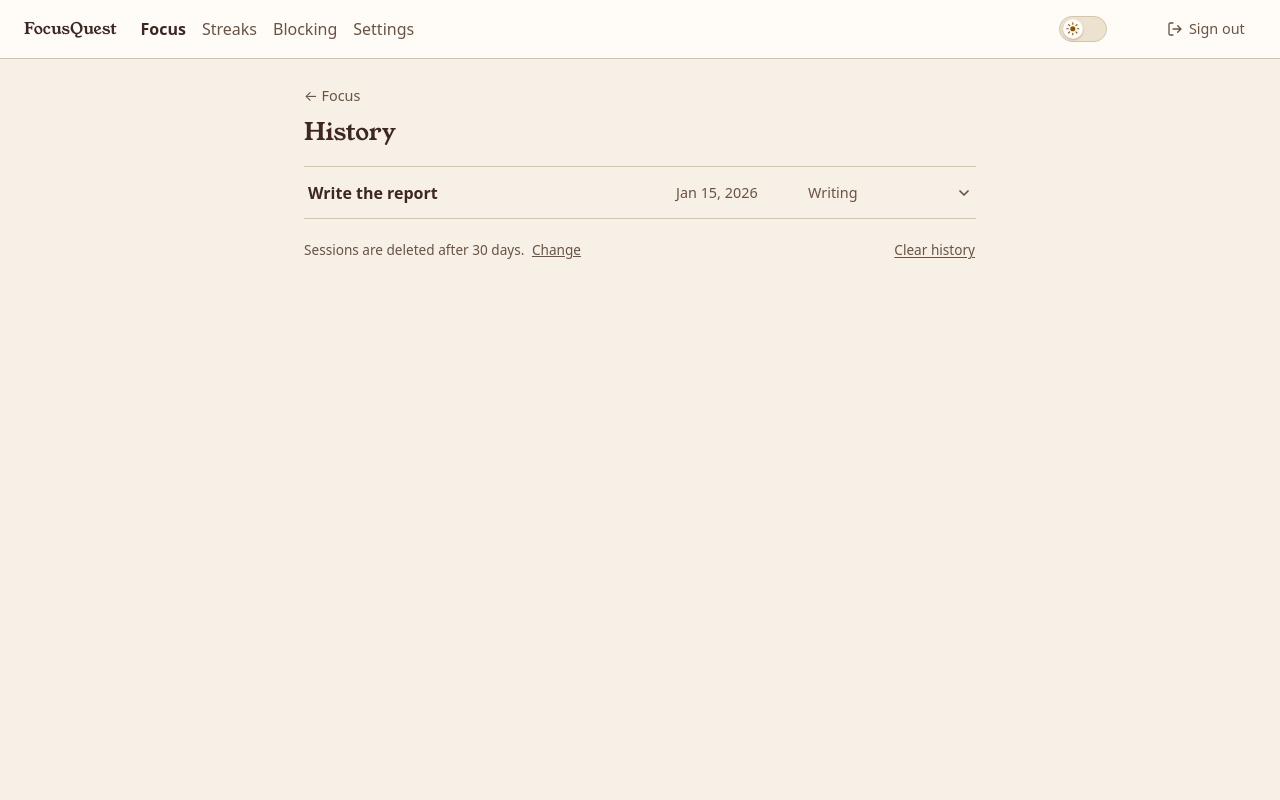
Test: HistoryView › clearing and retention › clears the history only after the user confirms
Click the button "Clear history" at point(935, 251), box [893,239,976,262]
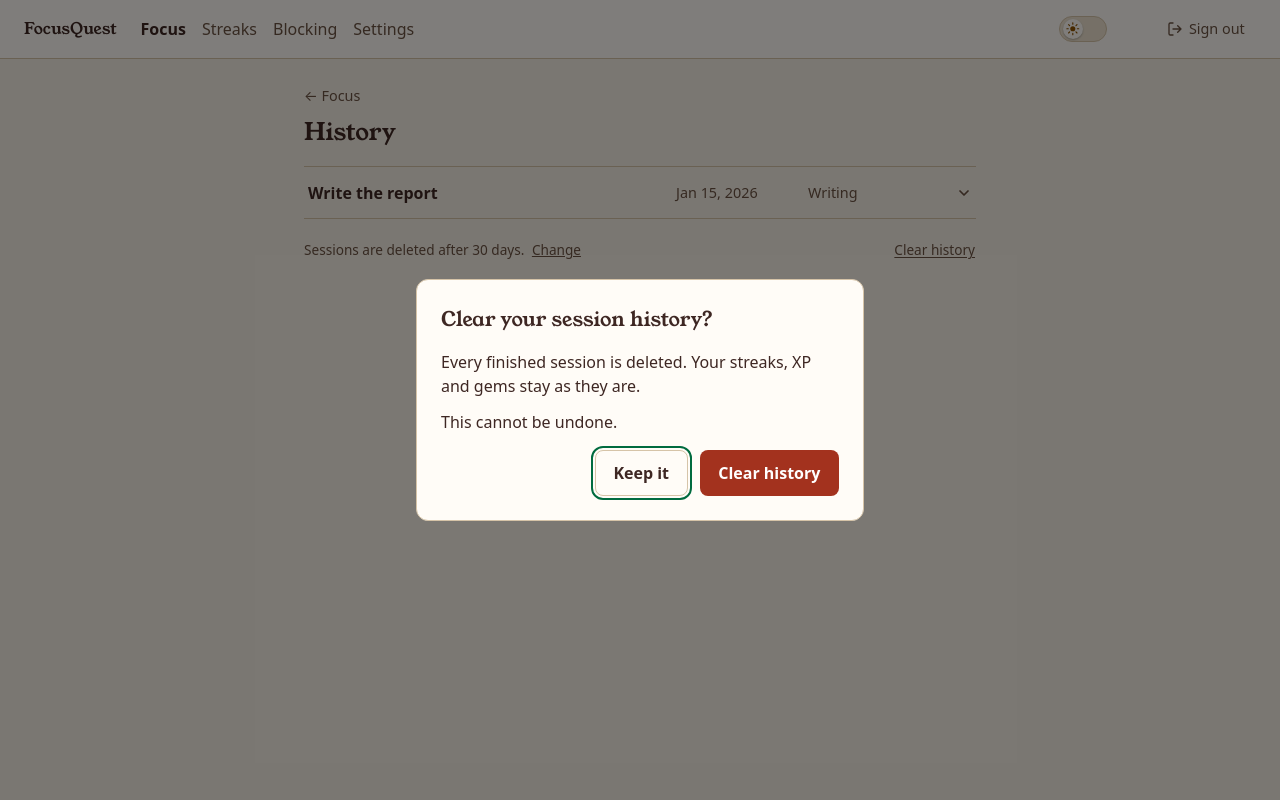
Check: the text "Your streaks, XP and gems stay as they are." is shown, box [441,351,811,397]
Click the button "Clear history" at point(769, 473), box [700,450,839,496]
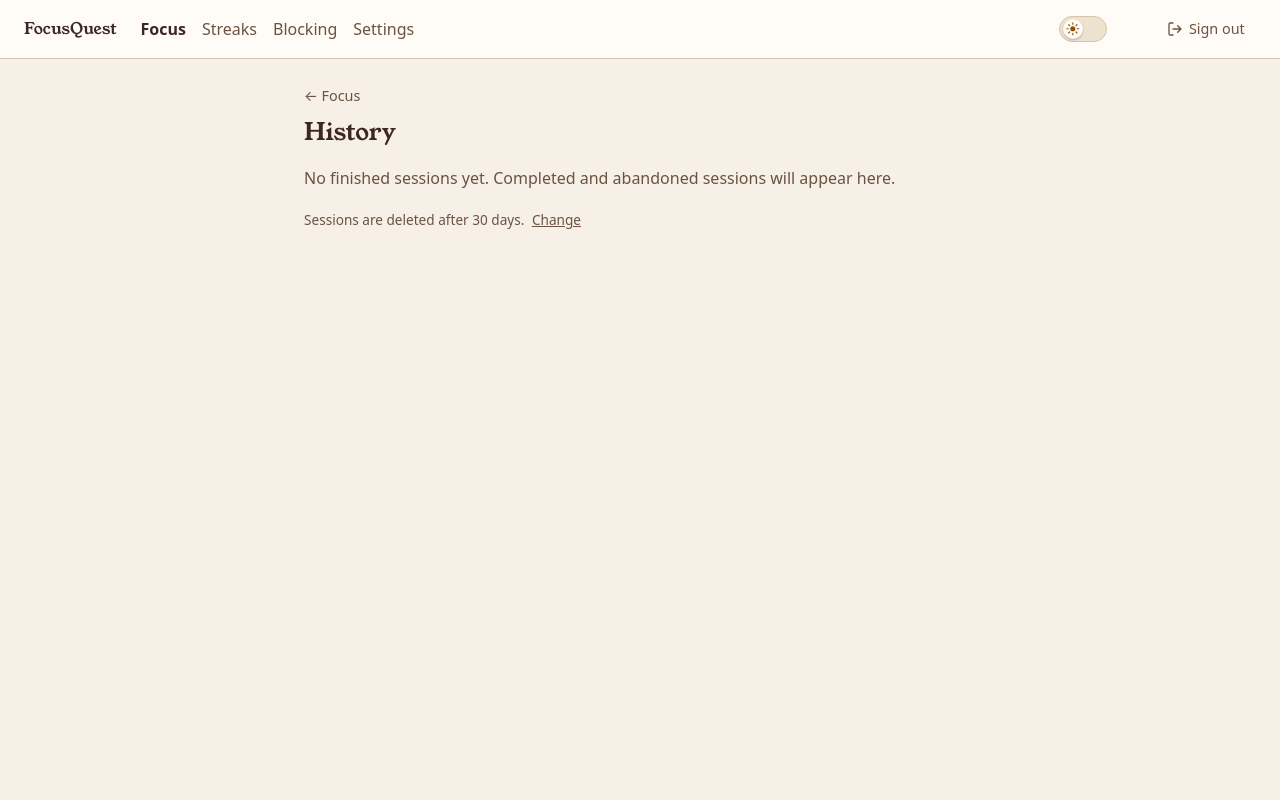
Check: the text "No finished sessions yet." is shown, box [304,167,895,189]
